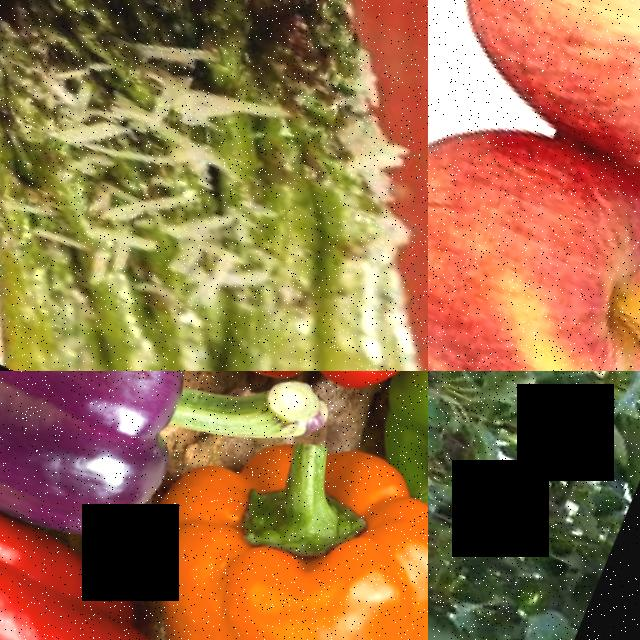apple: (428, 73, 640, 371), (428, 0, 640, 210)
avocado: (428, 564, 495, 640), (428, 611, 510, 640)
bell pepper: (123, 401, 428, 640), (0, 371, 225, 555), (0, 467, 169, 640)
